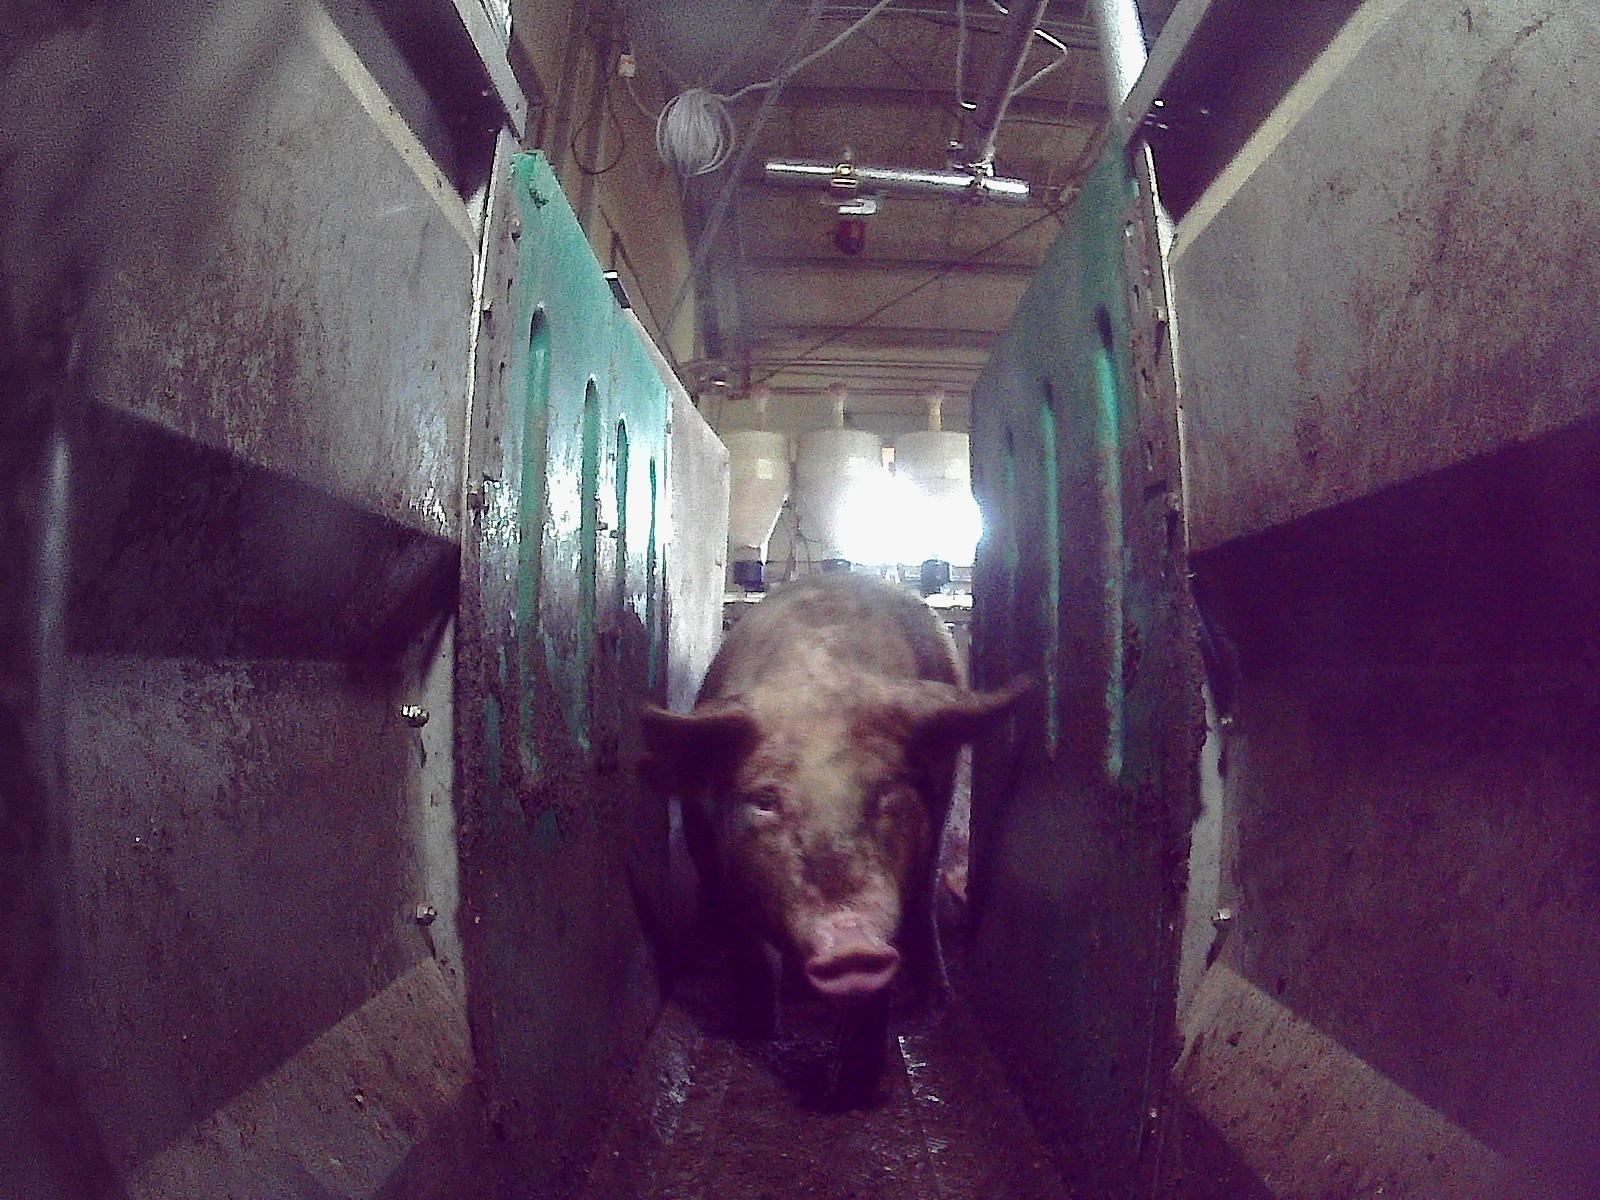Face: (707, 678, 927, 992)
